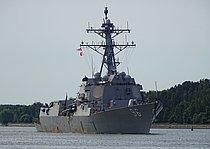MIL_Ship: (33, 67, 159, 136)
